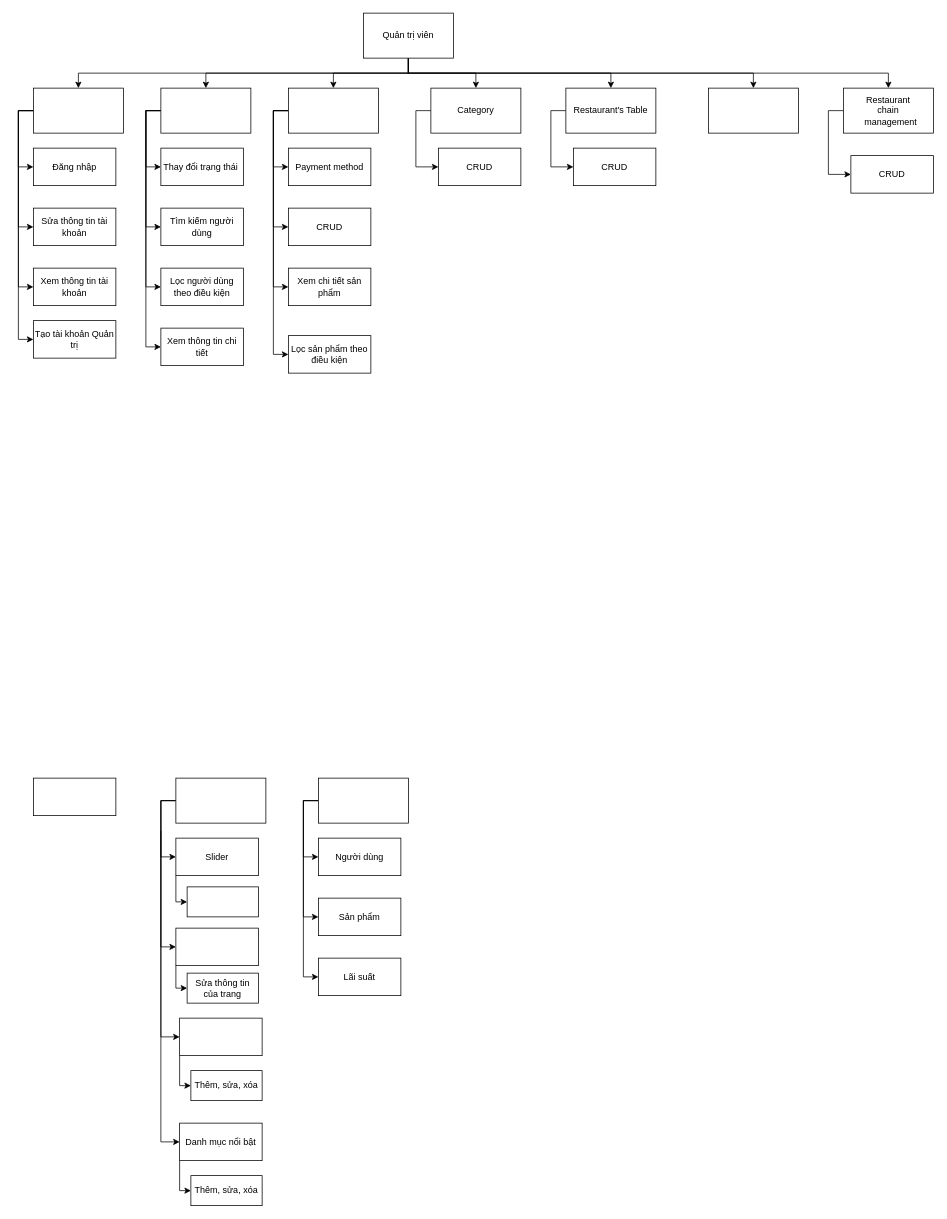
The diagram is 947 pixels wide and 1219 high, and some of its shapes have lost their labels. The shapes that lost their labels are listed below. From the top down, each one's centre as x and y in pixels, then its label:
At pixel 78 110: "Tài khoản".
At pixel 205 110: "Quản lí người dùng".
At pixel 333 110: "Food".
At pixel 753 110: "Bill".
At pixel 74 796: "Xem comment của sản phẩm".
At pixel 220 800: "Quản lí thông tin chung".
At pixel 363 800: "Thống kê".
At pixel 222 901: "Thêm, sửa, xóa slider".
At pixel 216 946: "Thông tin liên kết".
At pixel 220 1036: "Banner".
